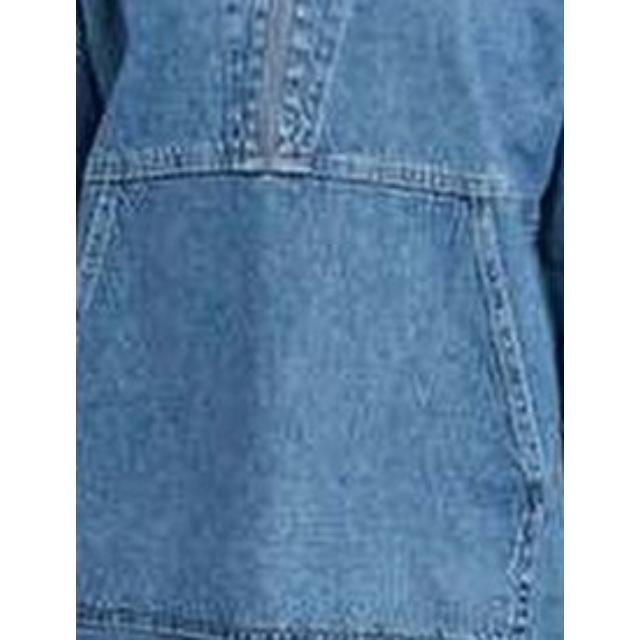denim: (76, 0, 564, 640)
